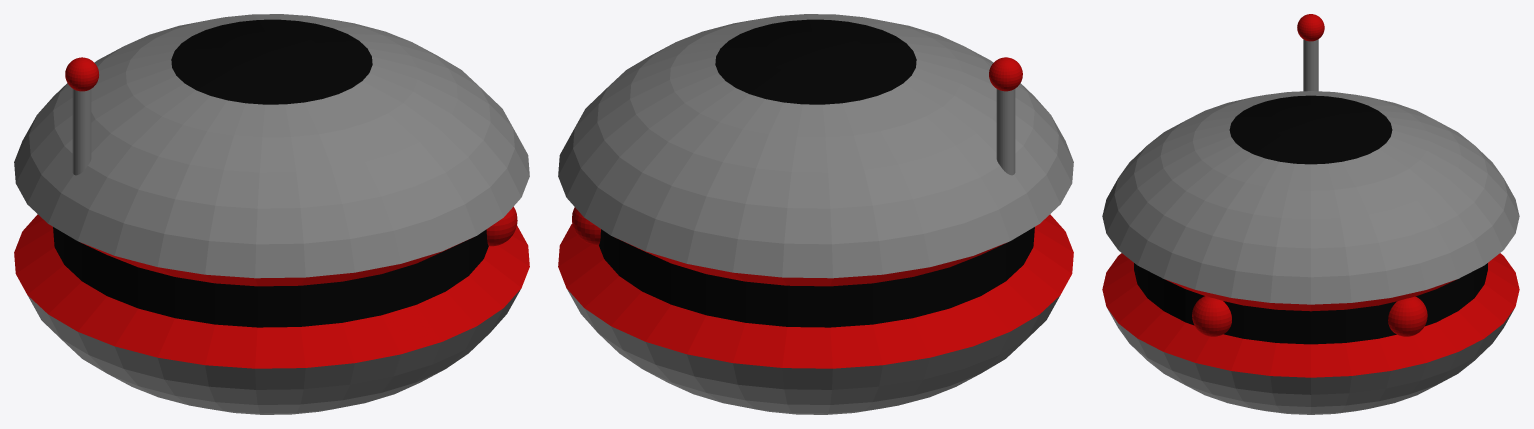
File: Minion A.fbx
The picture shows the model from 3 angles, left to right: view 1: azimuth 30°, elevation 25°; view 2: azimuth 150°, elevation 25°; view 3: azimuth 270°, elevation 25°; orthographic projection. The views are drawn at different scales.
Visible parts, largest first — view 1: Sphere; view 2: Sphere; view 3: Sphere.
Part boxes in pixels (bbox=[...]): Sphere: bbox=[14, 14, 529, 414]; Sphere: bbox=[558, 14, 1073, 414]; Sphere: bbox=[1102, 14, 1519, 414].
Bounding box in the file's own units: 196 × 153 × 196.
